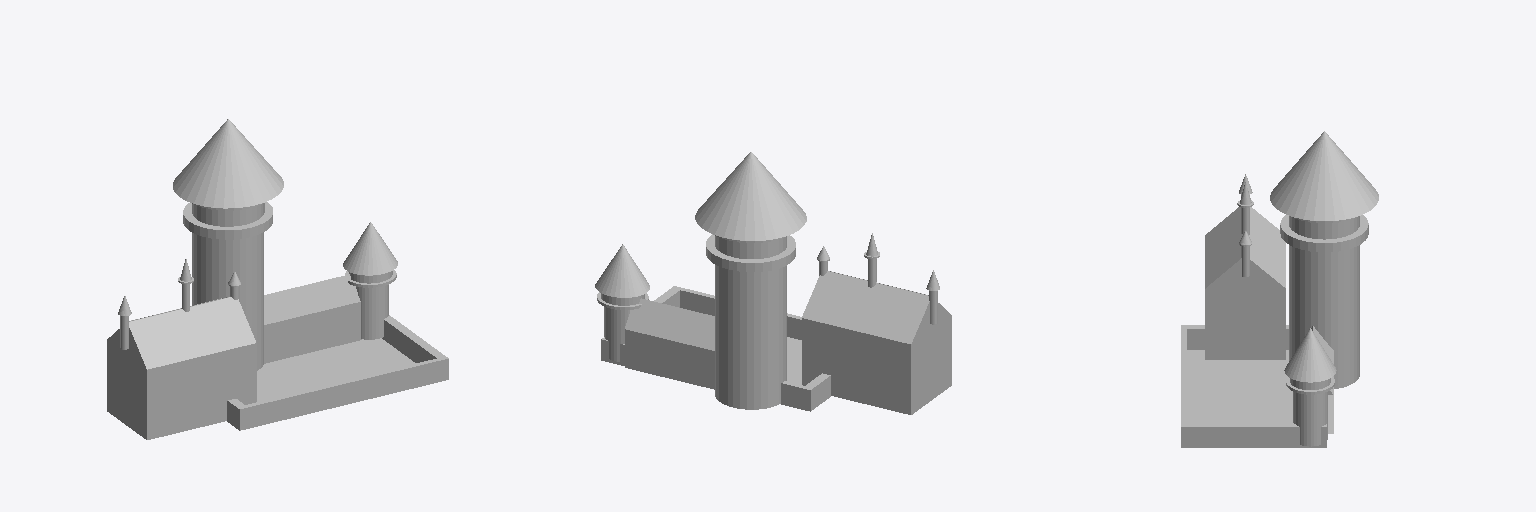
The model's file is hogwarts4.obj.
3 renders of one model, left to right at view 1: azimuth 30°, elevation 25°; view 2: azimuth 150°, elevation 25°; view 3: azimuth 270°, elevation 25°, orthographic.
Visible parts, largest first — view 1: Cube.002_Cube.004; view 2: Cube.002_Cube.004; view 3: Cube.002_Cube.004.
Part boxes in pixels (x1,y1,x2,y2): Cube.002_Cube.004: (107, 119, 448, 439); Cube.002_Cube.004: (595, 152, 951, 414); Cube.002_Cube.004: (1181, 131, 1378, 447).
Size of the model in its own units: 79.83 by 60.55 by 44.47.